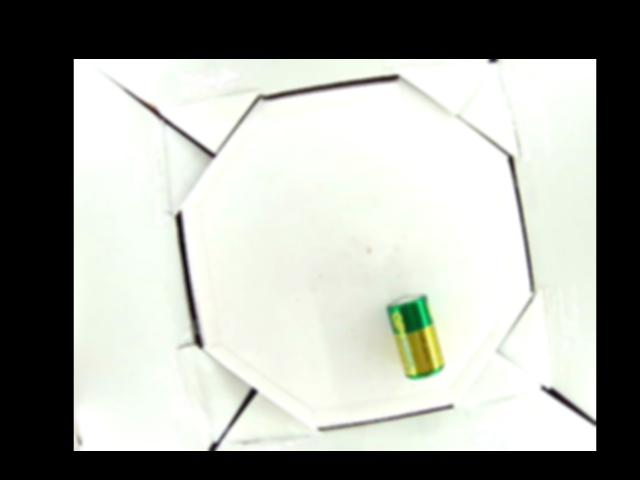Battery: (386, 293, 446, 379)
